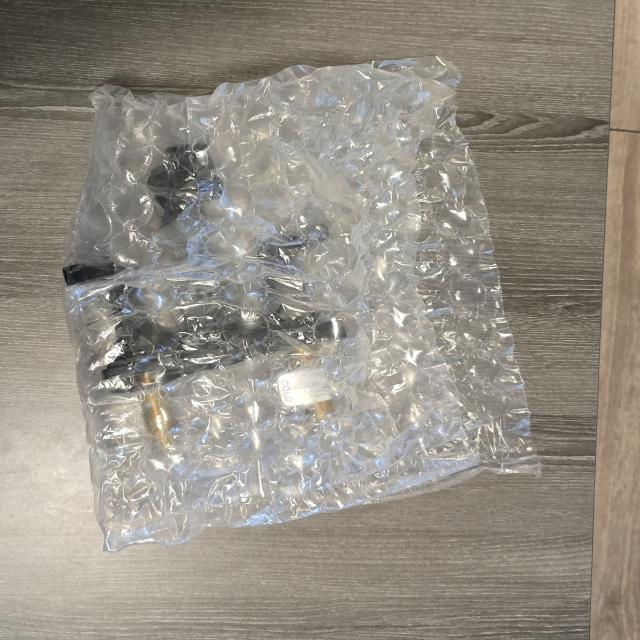9c: (63, 57, 538, 551)
